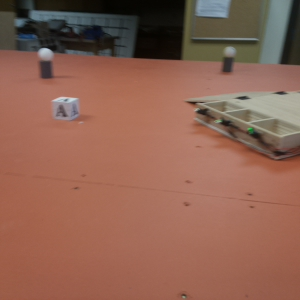blockA: (50, 93, 82, 123)
obstacle: (34, 49, 56, 80), (217, 47, 239, 75)
side: (197, 107, 300, 163)
slope: (191, 83, 290, 105)
